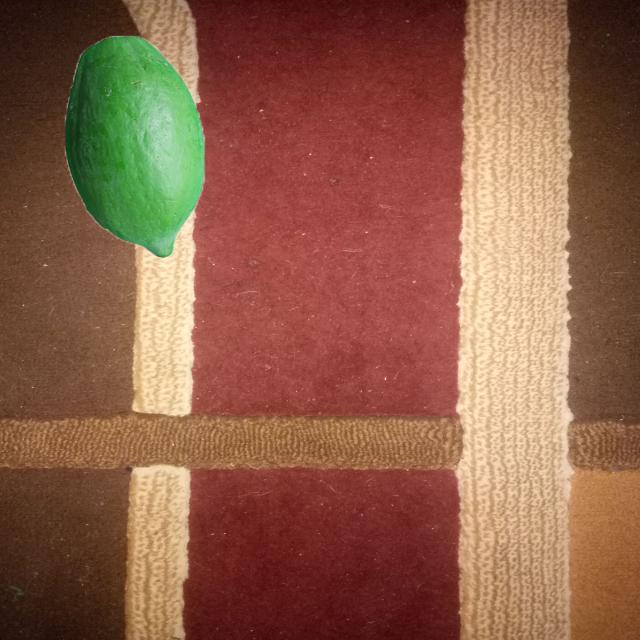Pepaya unrippen: (52, 29, 220, 260)
